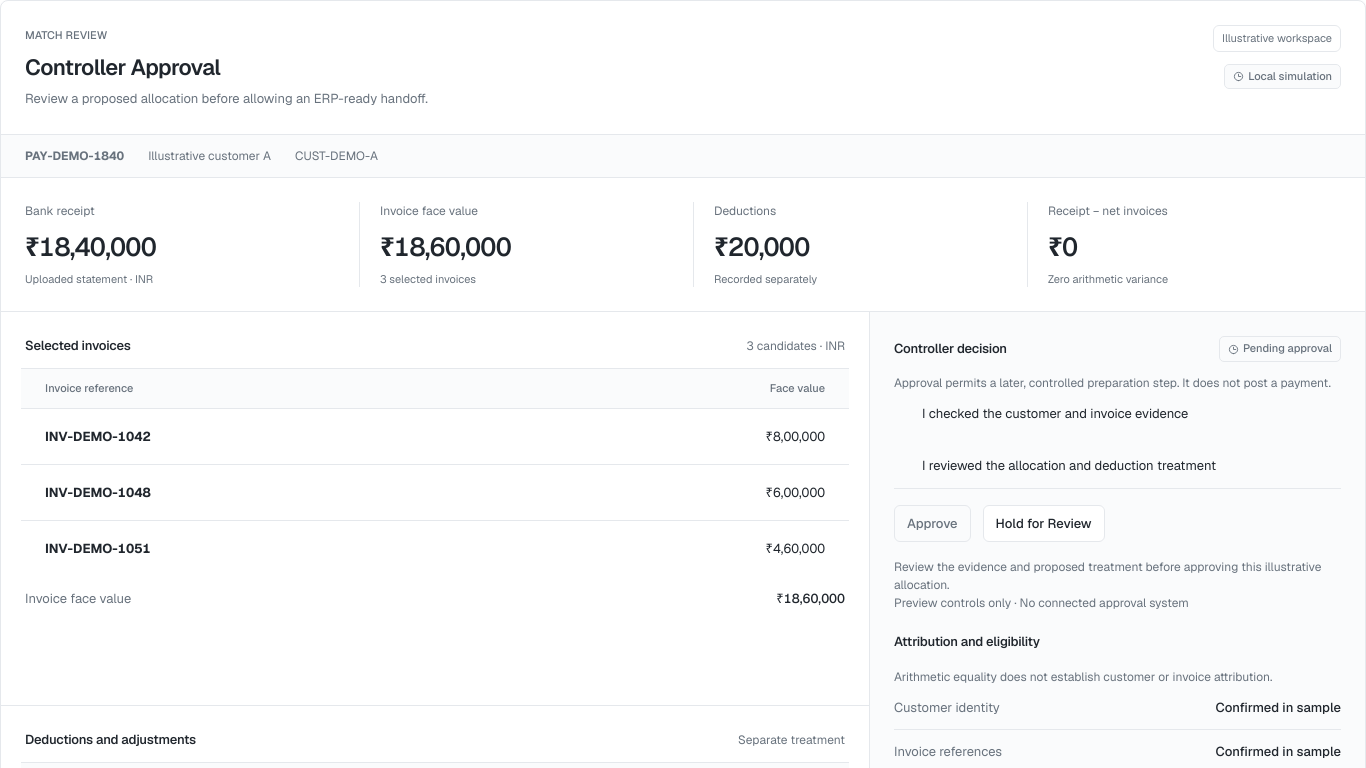
Test case: payment match detail and controller approval › simulates a hold and resets only when requested
The image size is (1366, 768).
Click the button "Hold for Review": coordinates (1044, 524) [983, 505, 1105, 542]
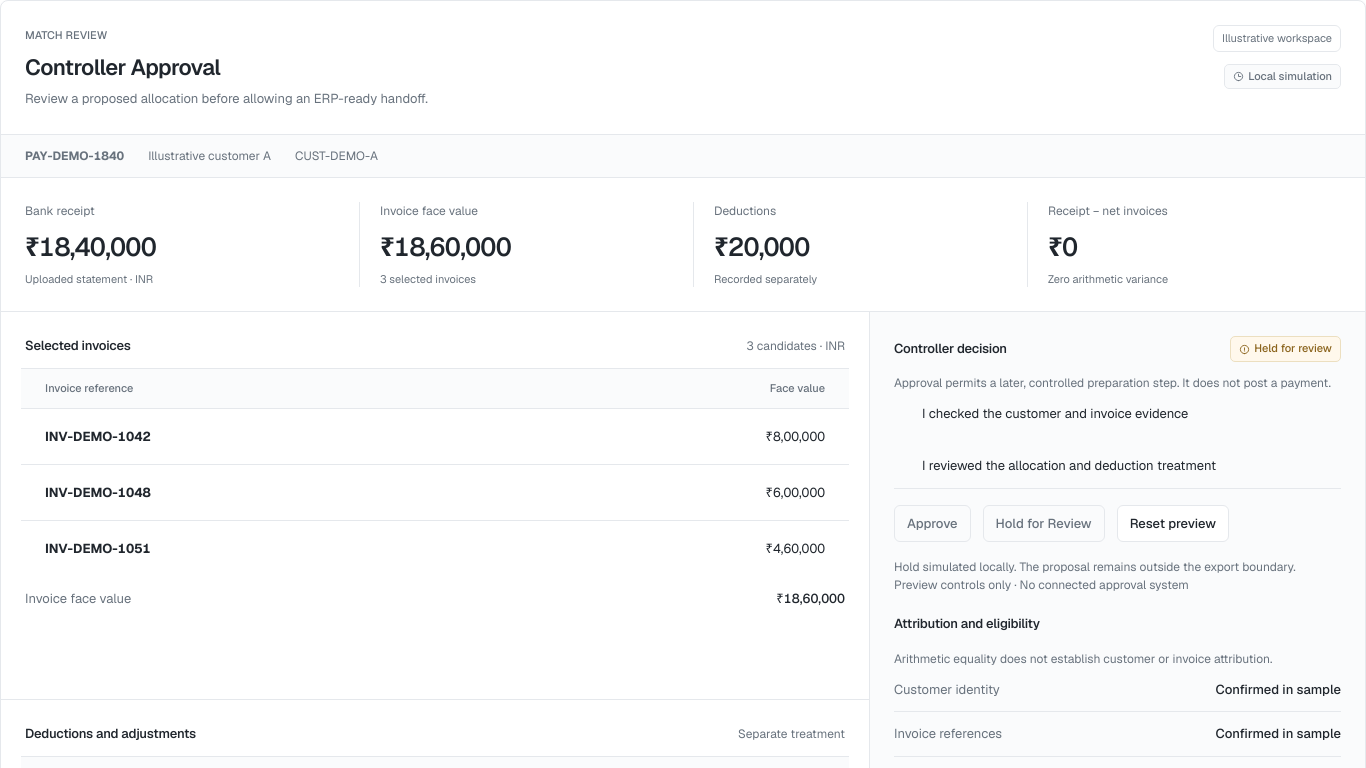
Check: the button "Approve" is disabled, box [894, 505, 971, 542]
Check: the text "Held for review" is shown, box [1230, 336, 1341, 362]
Click the button "Reset preview": coordinates (1173, 524) [1117, 505, 1229, 542]
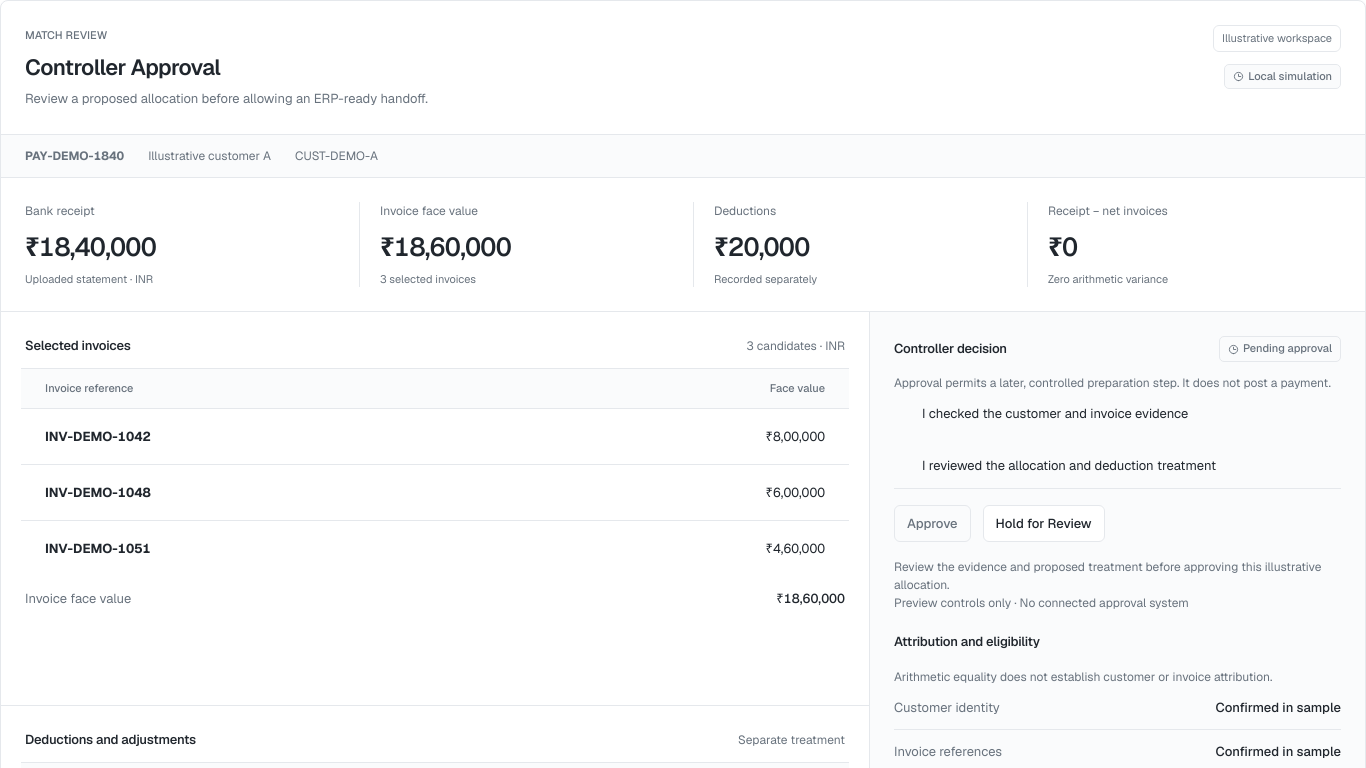
Check: the text "Pending approval" is shown, box [1219, 336, 1341, 362]
